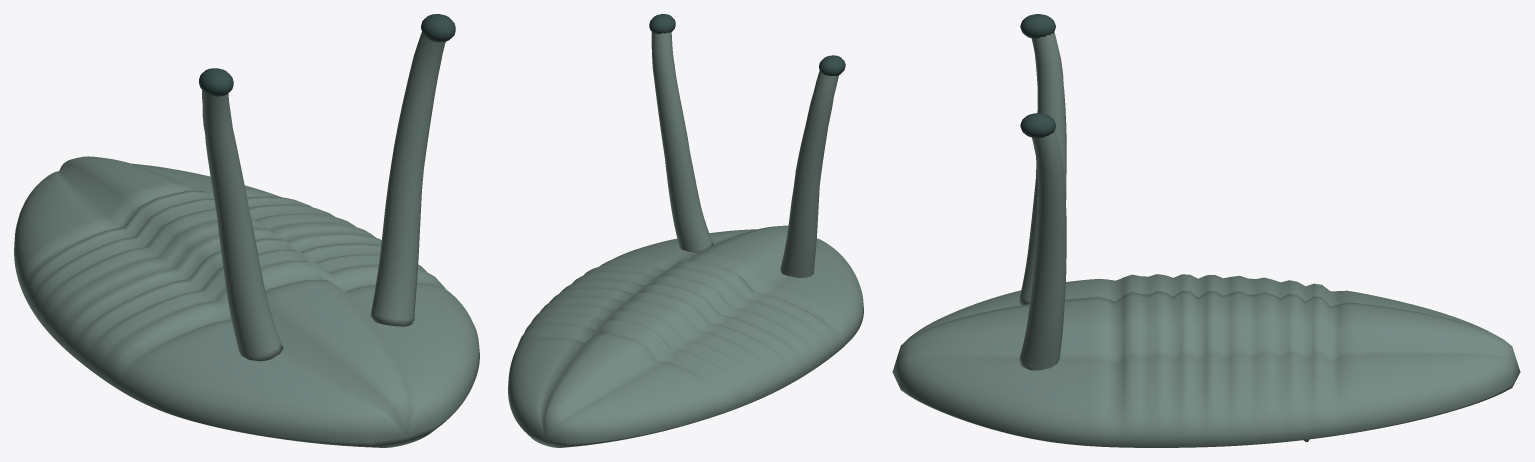
Rendered from asaphus.glb.
The picture shows the model from 3 angles, left to right: view 1: azimuth 30°, elevation 25°; view 2: azimuth 150°, elevation 25°; view 3: azimuth 270°, elevation 25°; orthographic projection. The views are drawn at different scales.
Parts seen in each view (by area): view 1: continuous-cephalon-thorax-pygidium, head-rooted-tapered-eye-towers, compact-terminal-eye-surfaces; view 2: continuous-cephalon-thorax-pygidium, head-rooted-tapered-eye-towers, compact-terminal-eye-surfaces; view 3: continuous-cephalon-thorax-pygidium, head-rooted-tapered-eye-towers, compact-terminal-eye-surfaces.
Boxes of the visible parts, bbox=[...] form: continuous-cephalon-thorax-pygidium: bbox=[14, 156, 479, 447]; head-rooted-tapered-eye-towers: bbox=[202, 32, 445, 361]; compact-terminal-eye-surfaces: bbox=[199, 14, 455, 96]; continuous-cephalon-thorax-pygidium: bbox=[508, 225, 863, 447]; head-rooted-tapered-eye-towers: bbox=[651, 32, 838, 277]; compact-terminal-eye-surfaces: bbox=[649, 14, 845, 75]; continuous-cephalon-thorax-pygidium: bbox=[892, 274, 1520, 447]; head-rooted-tapered-eye-towers: bbox=[1018, 32, 1066, 370]; compact-terminal-eye-surfaces: bbox=[1020, 14, 1055, 138].
Bounding box in the file's own units: 0.0425 × 0.0427 × 0.075.
